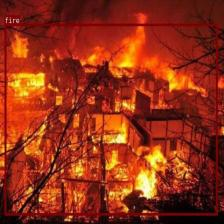fire: (5, 24, 218, 214)
